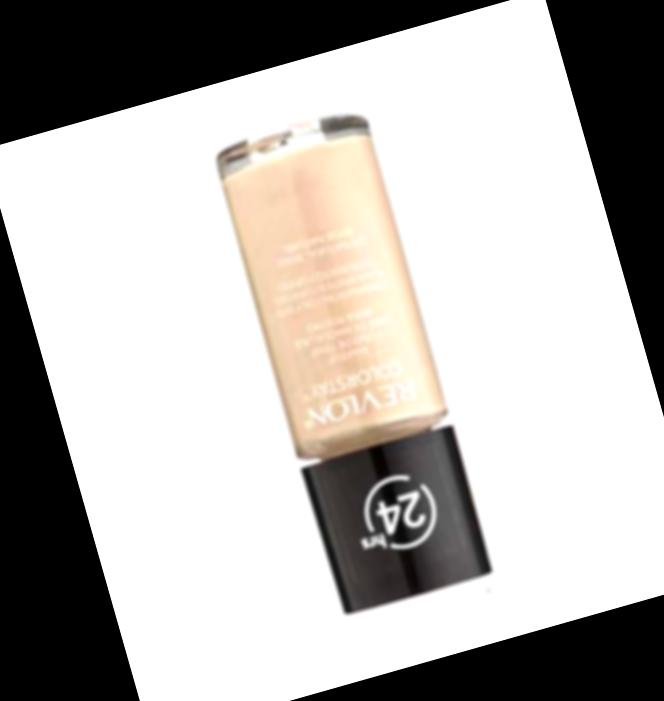cosmetic: (212, 109, 497, 614)
